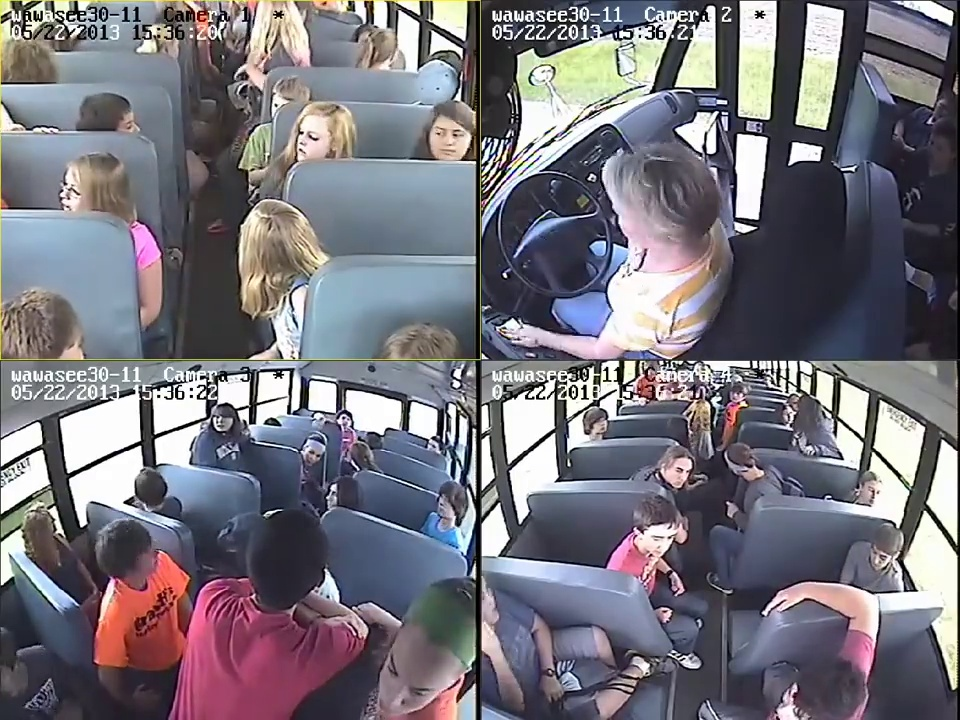face: (291, 112, 332, 162), (428, 121, 466, 160), (59, 166, 91, 209), (126, 540, 163, 574), (649, 524, 677, 556), (671, 455, 692, 489), (435, 495, 461, 520), (870, 547, 892, 571), (324, 486, 344, 508), (211, 414, 233, 432), (865, 482, 881, 505), (304, 444, 322, 461), (728, 388, 746, 404), (590, 418, 606, 435), (338, 413, 352, 428), (426, 442, 443, 452)
